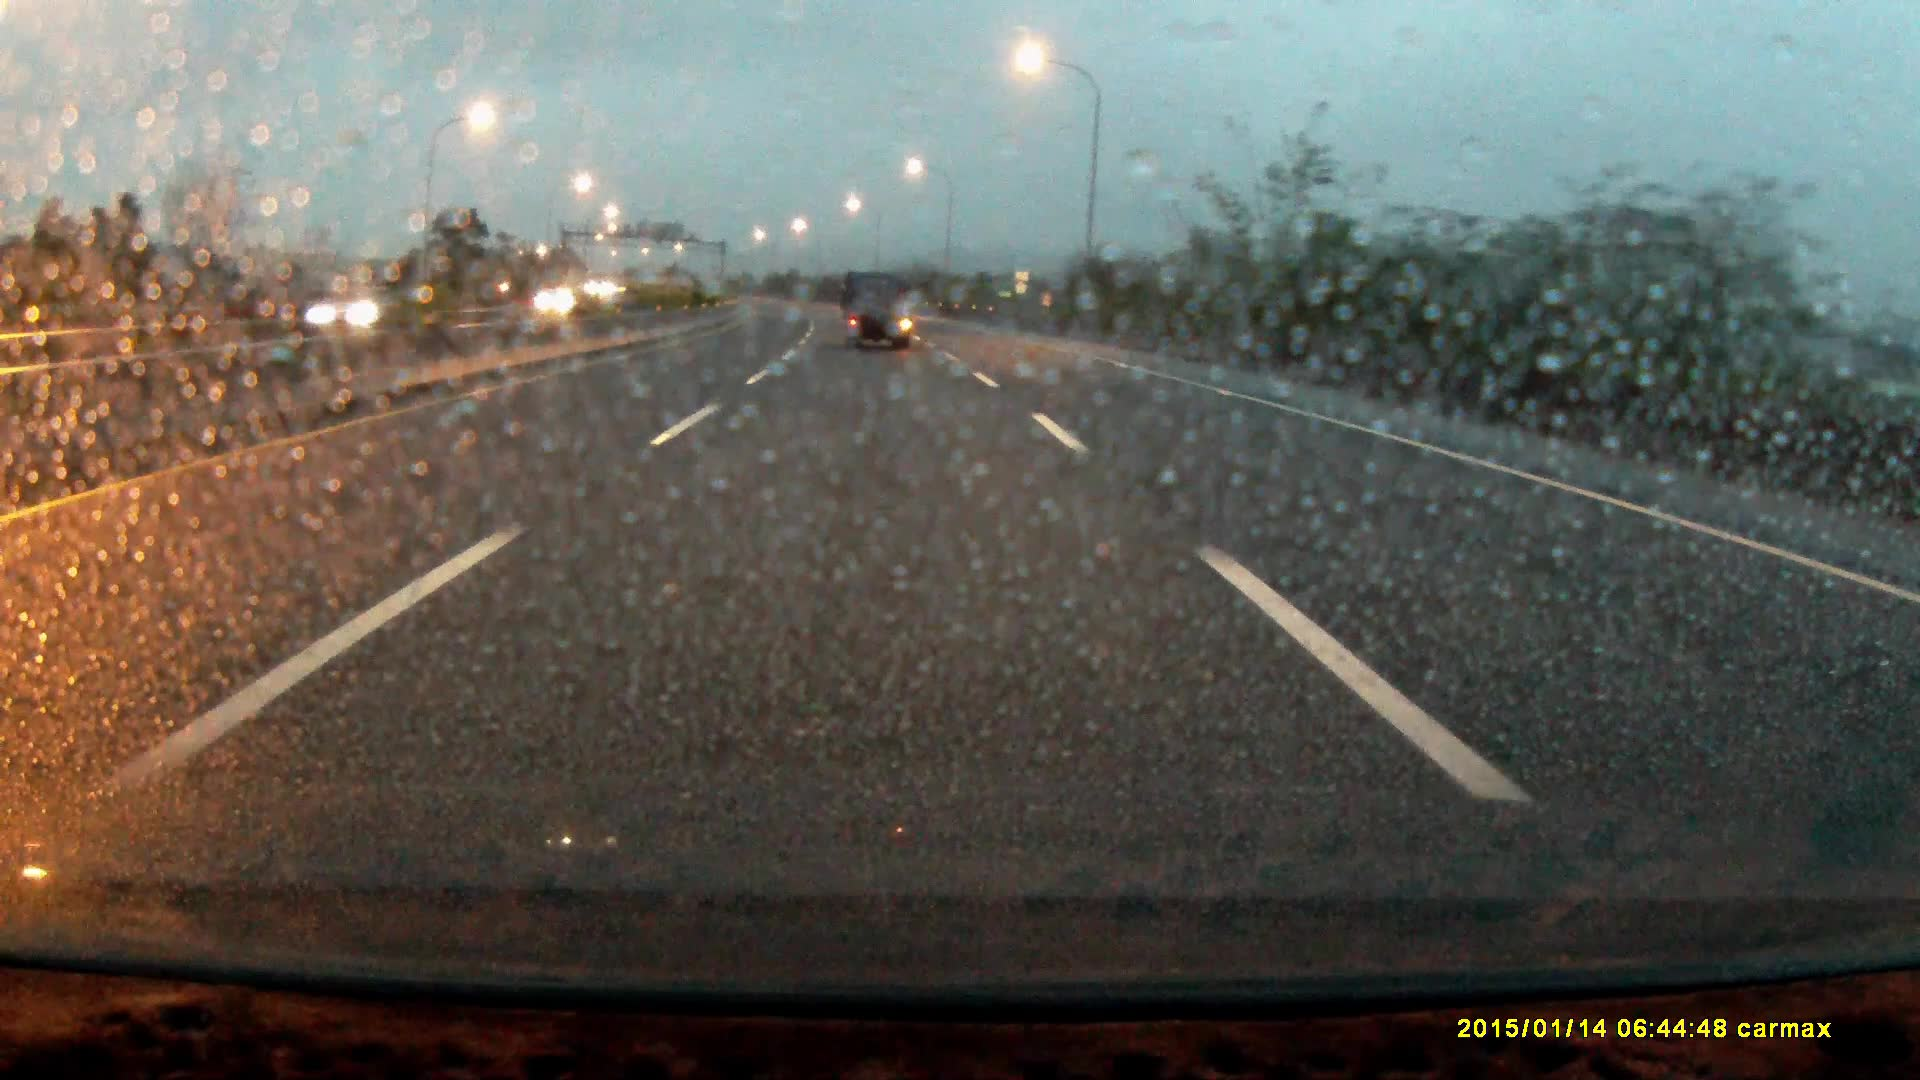vehicle: (291, 289, 415, 340), (840, 274, 913, 352)
